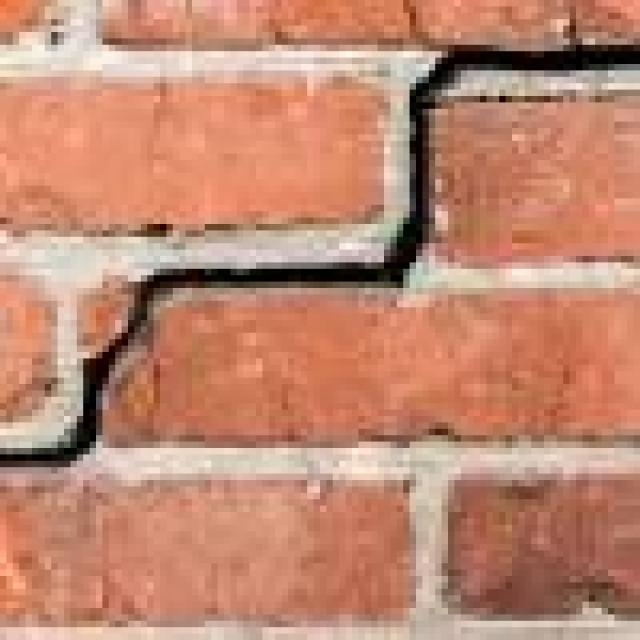Crack: (0, 26, 634, 467)
